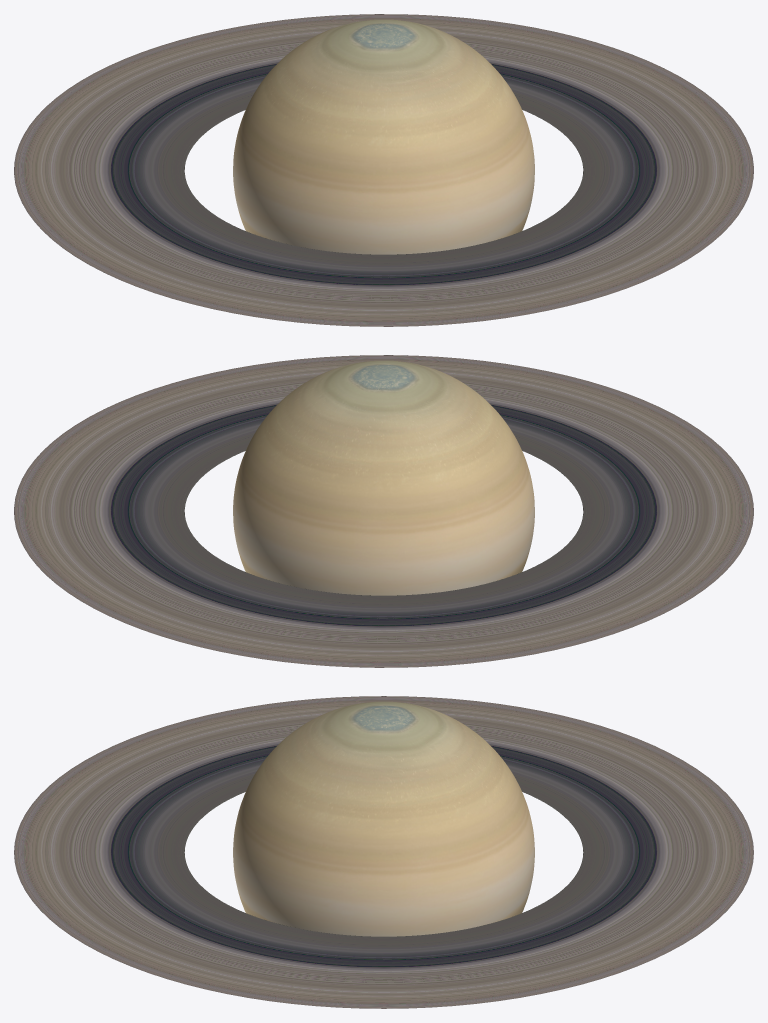
The model's file is saturn_project.glb.
3 views of the same model, one above another, from view 1: azimuth 30°, elevation 25°; view 2: azimuth 150°, elevation 25°; view 3: azimuth 270°, elevation 25° (orthographic).
Visible parts, largest first — view 1: pTorus1, pSphere1; view 2: pTorus1, pSphere1; view 3: pTorus1, pSphere1.
Boxes of the visible parts, bbox=[...] form: pTorus1: bbox=[14, 14, 753, 326]; pSphere1: bbox=[233, 19, 534, 254]; pTorus1: bbox=[14, 355, 753, 667]; pSphere1: bbox=[233, 360, 534, 595]; pTorus1: bbox=[14, 696, 753, 1008]; pSphere1: bbox=[233, 701, 534, 936].
Bounding box in the file's own units: 0.049 × 0.02 × 0.049.
Materials: 2 (2 with a texture image).
